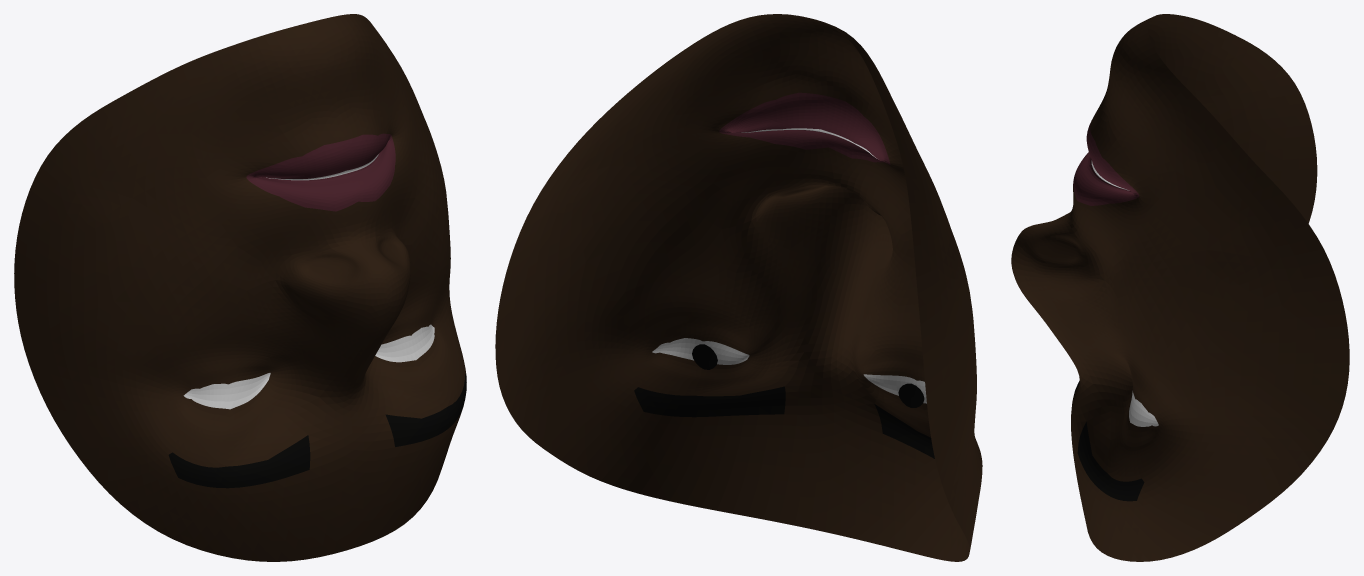
Rendered from VID-20250515-WA0002_f_00483.obj.
3 renders of one model, left to right at view 1: azimuth 30°, elevation 25°; view 2: azimuth 150°, elevation 25°; view 3: azimuth 270°, elevation 25°, orthographic. The views are drawn at different scales.
Parts seen in each view (by area): view 1: face_mesh_subdivided; view 2: face_mesh_subdivided; view 3: face_mesh_subdivided.
Boxes of the visible parts, x1,y1,x2,y2 form: face_mesh_subdivided: [14, 14, 466, 561]; face_mesh_subdivided: [495, 14, 982, 561]; face_mesh_subdivided: [1011, 14, 1349, 561].
Size of the model in its own units: 0.4287 by 0.5267 by 0.3294.
